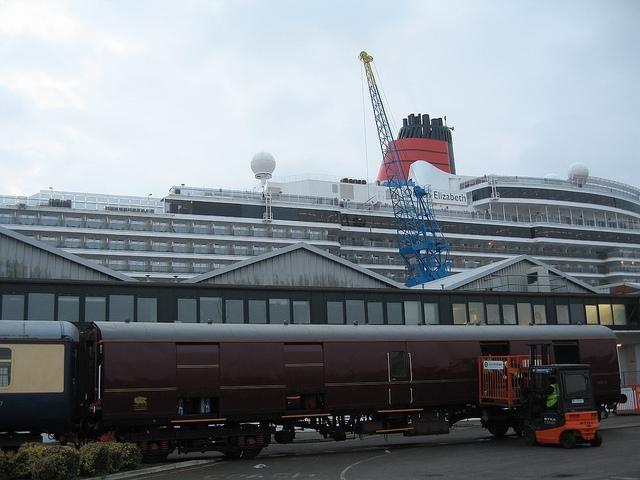truck: (477, 343, 603, 449)
